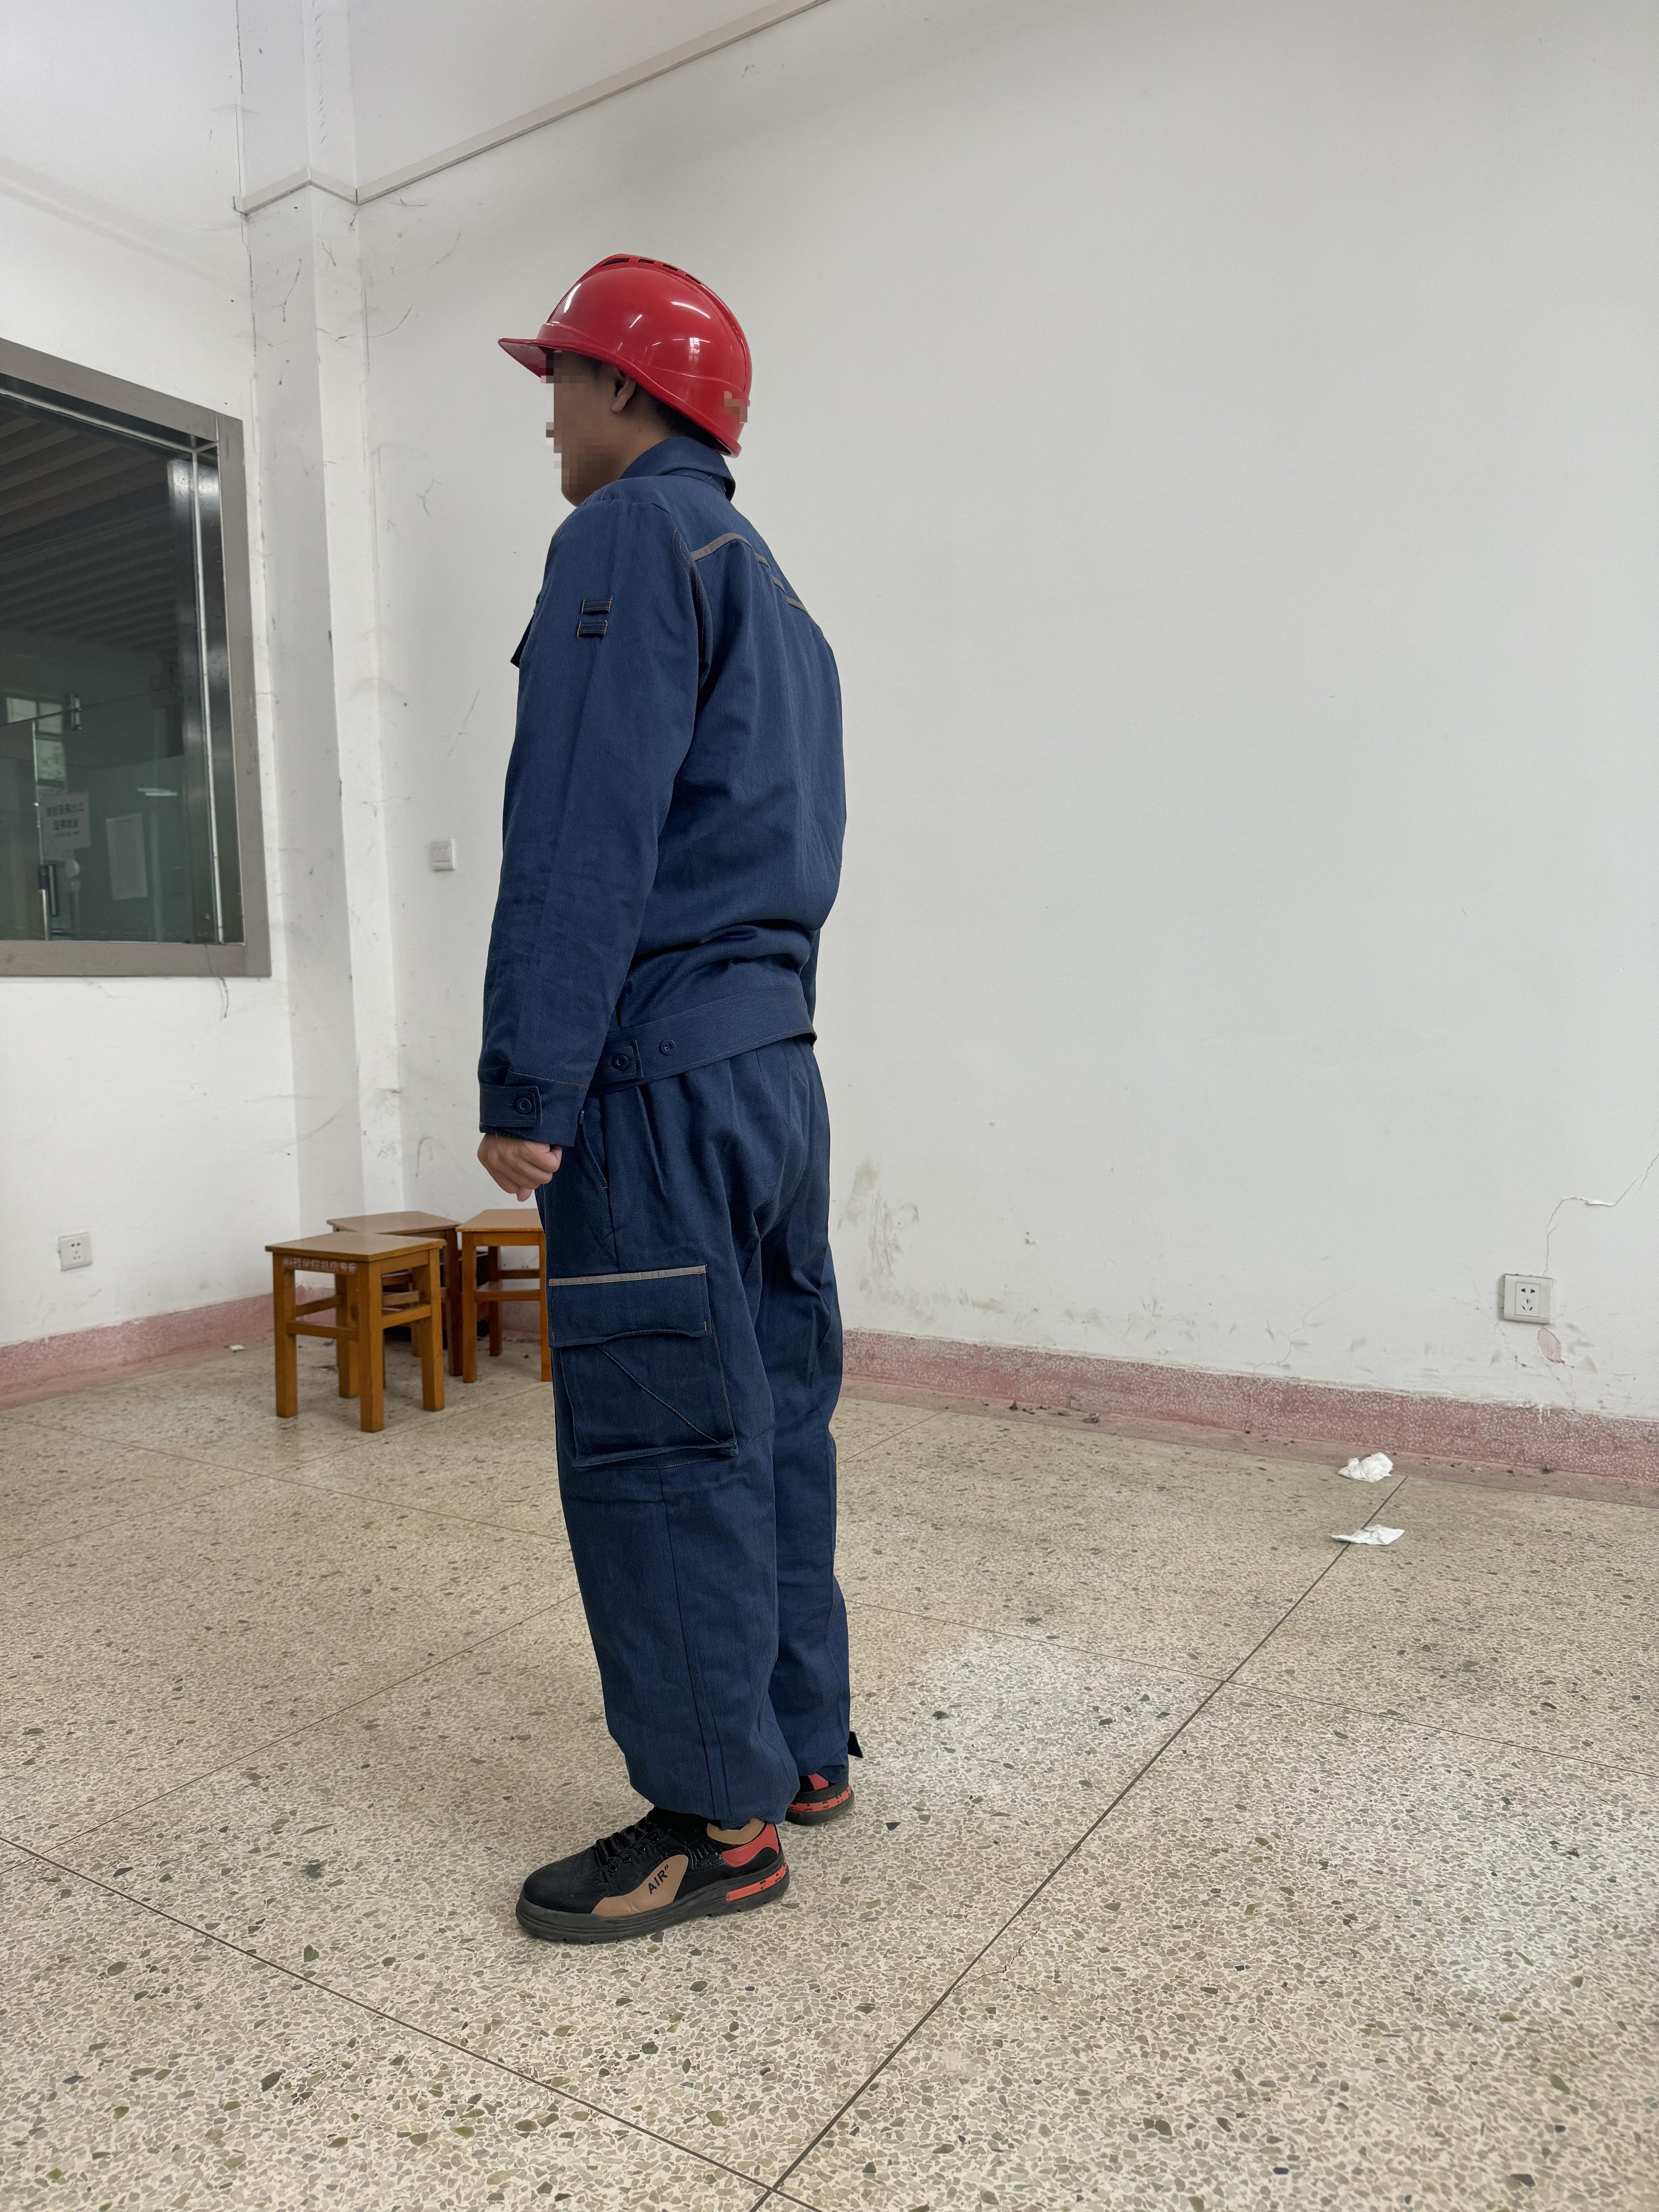halt: (495, 254, 756, 505)
noear: (589, 355, 652, 453)
